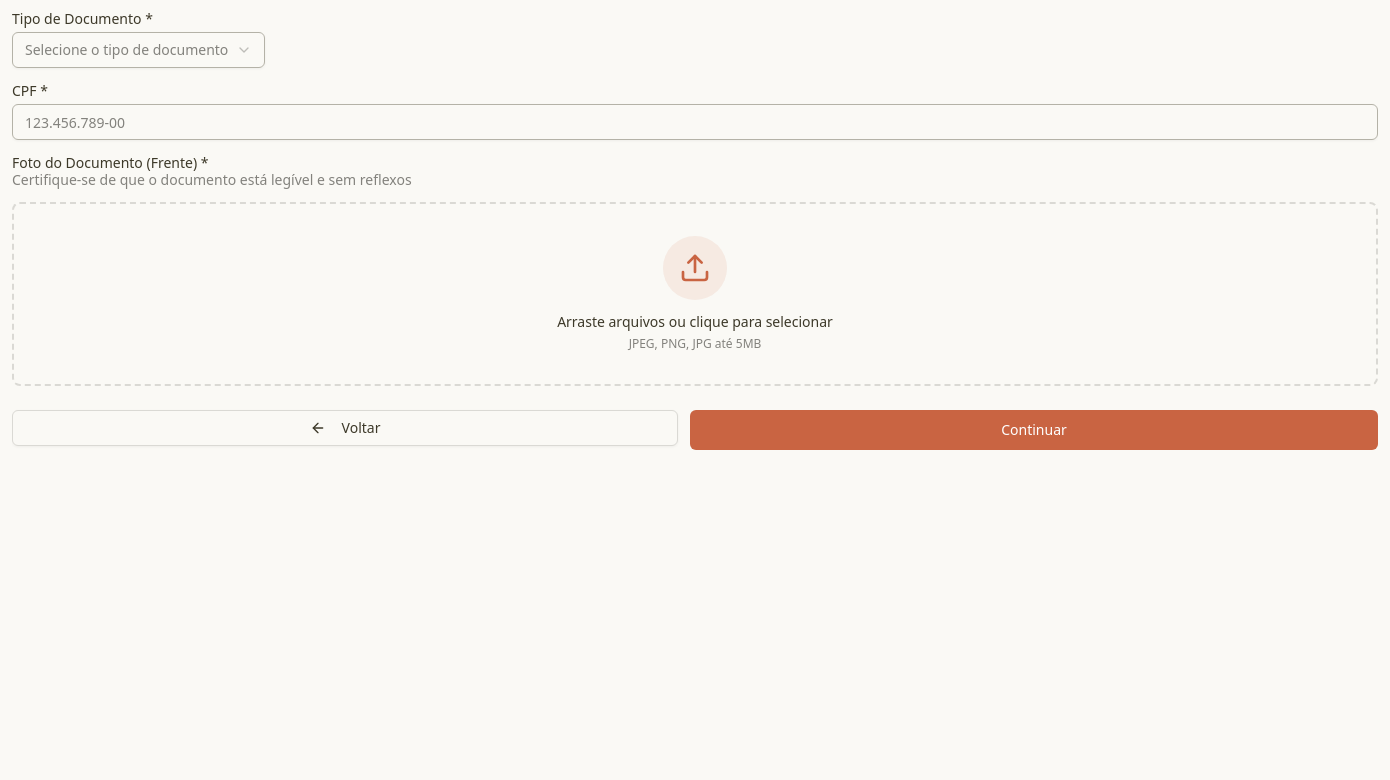
IdentityStep › should show back side upload for driver license
Click the dropdown at (139, 50), box [12, 32, 265, 68]
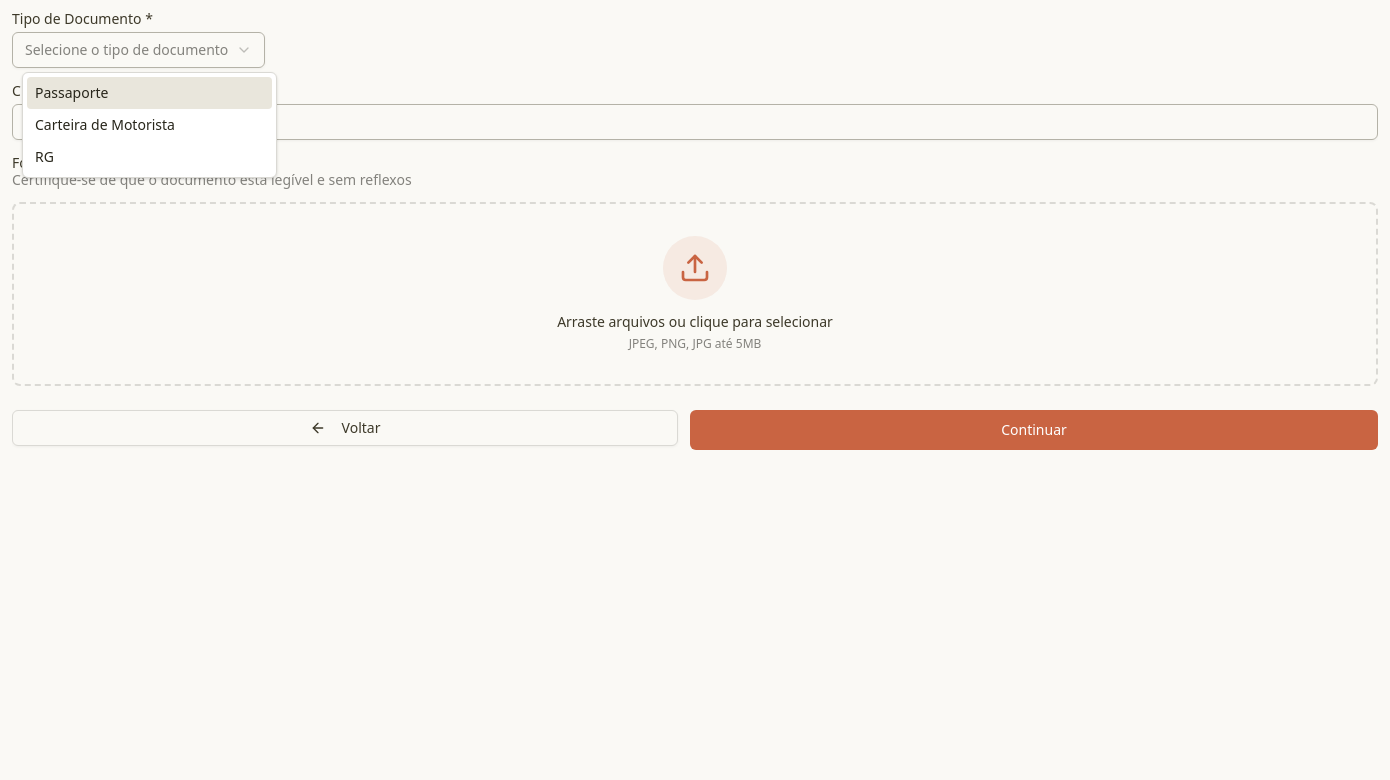
Click the option "Carteira de Motorista" at (105, 124), box [35, 115, 175, 134]
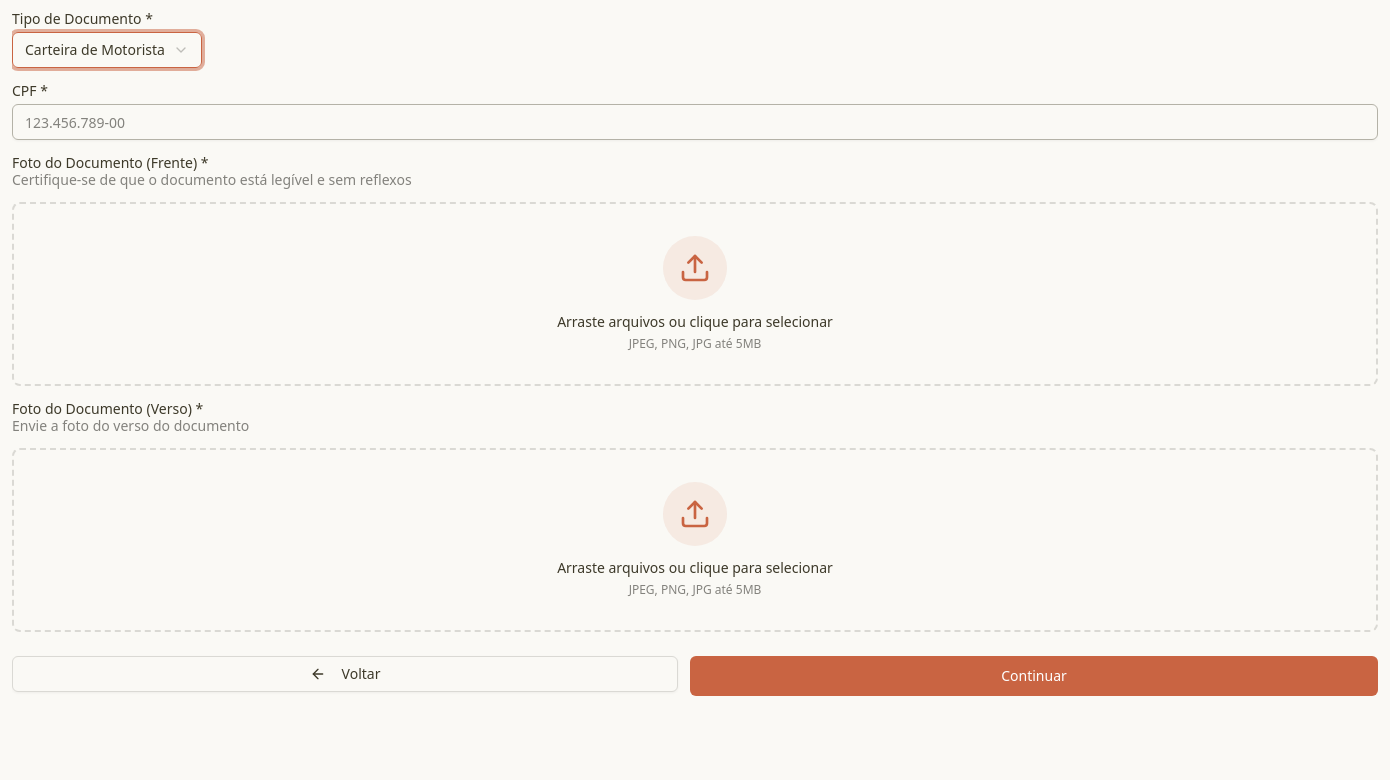
Check: the text "Foto do Documento (Verso) *" is shown, box [12, 399, 203, 418]
